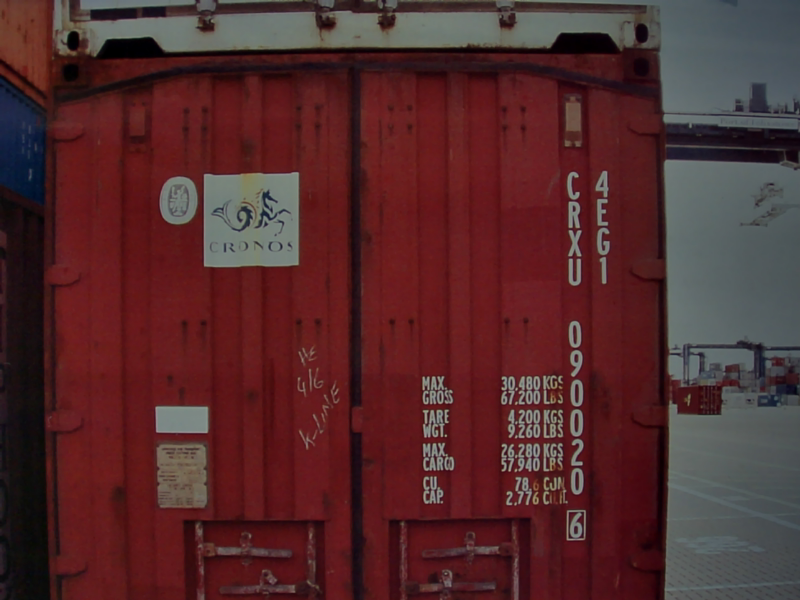container_door: (48, 58, 672, 595)
